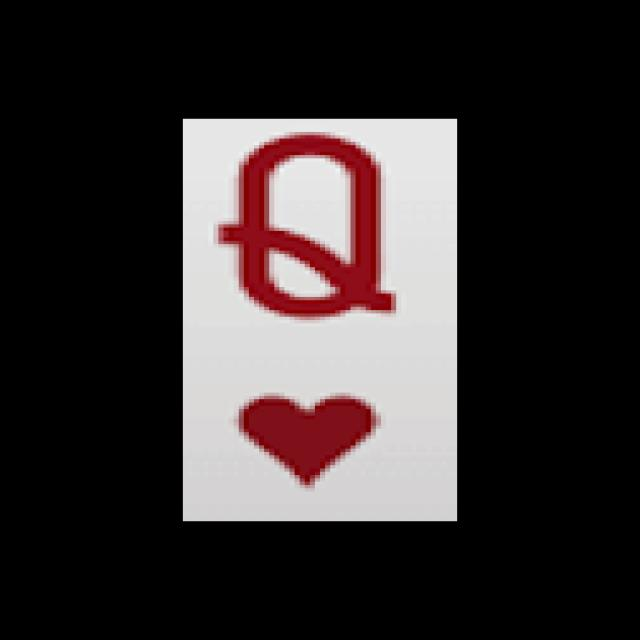QH: (199, 126, 424, 500)
